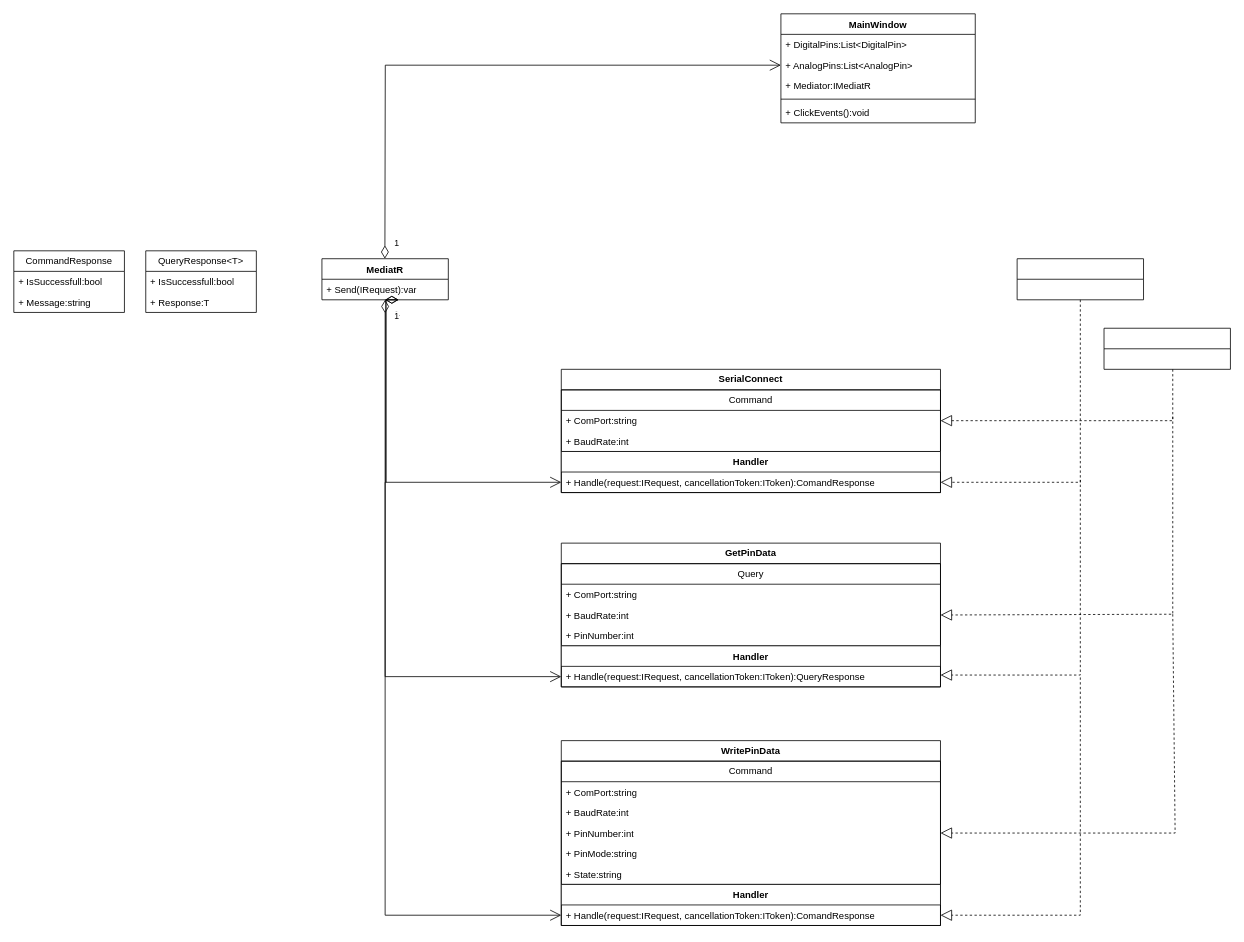
Image size: 1244x942. Some labels were removed from this diagram. Here are the shapes that lost their labels. From the top down, the centre of each, then its label:
At pixel 1080 279: "IRequestHandler".
At pixel 1166 348: "IRequest".
